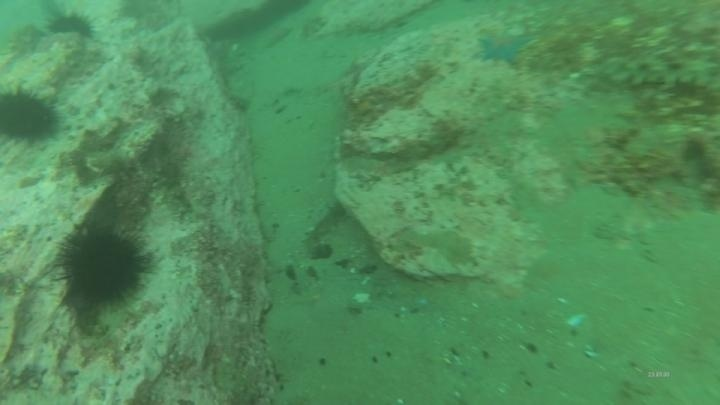echinus: (55, 220, 152, 314), (0, 82, 64, 148), (45, 10, 98, 43)
holothurian: (601, 49, 716, 94)
starfish: (475, 27, 537, 68)
